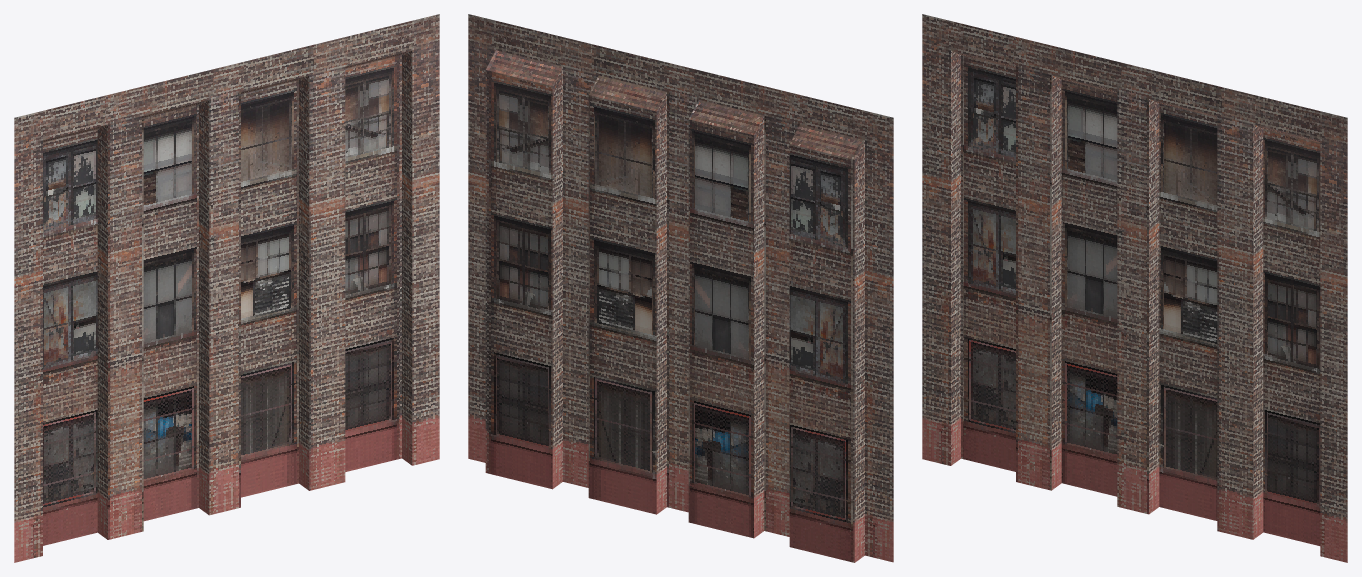
File: BrickBuilding.glb
3 renders of one model, left to right at view 1: azimuth 30°, elevation 25°; view 2: azimuth 150°, elevation 25°; view 3: azimuth 330°, elevation 25°, orthographic.
Visible parts, largest first — view 1: BrickBuildingFront; view 2: BrickBuildingFront; view 3: BrickBuildingFront.
Boxes of the visible parts, left/top/right/bottom form: BrickBuildingFront: left=14, top=14, right=439, bottom=562; BrickBuildingFront: left=468, top=14, right=893, bottom=562; BrickBuildingFront: left=922, top=14, right=1347, bottom=562.
Size of the model in its own units: 8 by 8 by 0.3327.
1 material, 1 textured.
